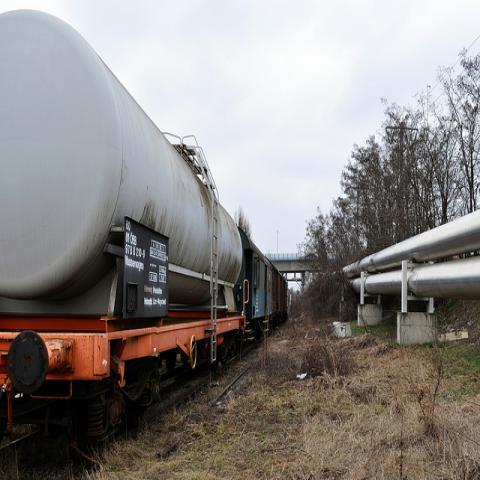truck: (307, 252, 318, 258)
